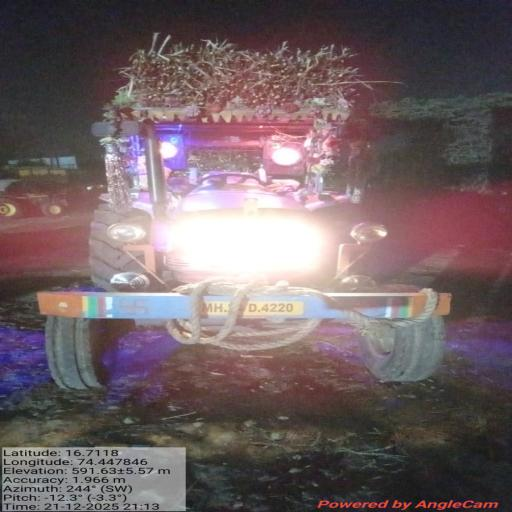number_plate: (178, 293, 320, 327)
